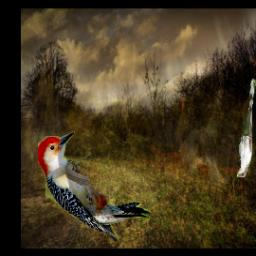Cuckoo: (237, 80, 256, 178)
Woodpecker: (37, 132, 152, 242)
